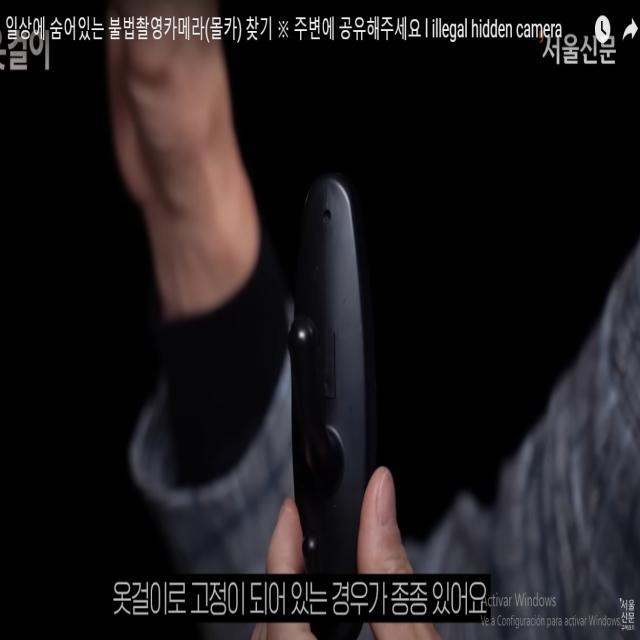hidden camera: (320, 204, 333, 226)
